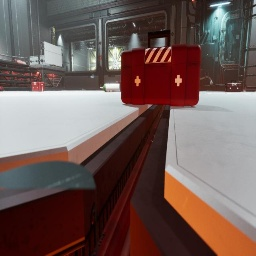0: (100, 84, 120, 92)
FireAlarm ,: (100, 55, 102, 60)
FireExtinguisher ]: (0, 86, 6, 92)
FirstAidBox ,: (120, 29, 202, 107), (224, 80, 242, 92), (31, 79, 45, 92), (116, 81, 121, 92)
NitrogenTank ,: (12, 59, 26, 64)
